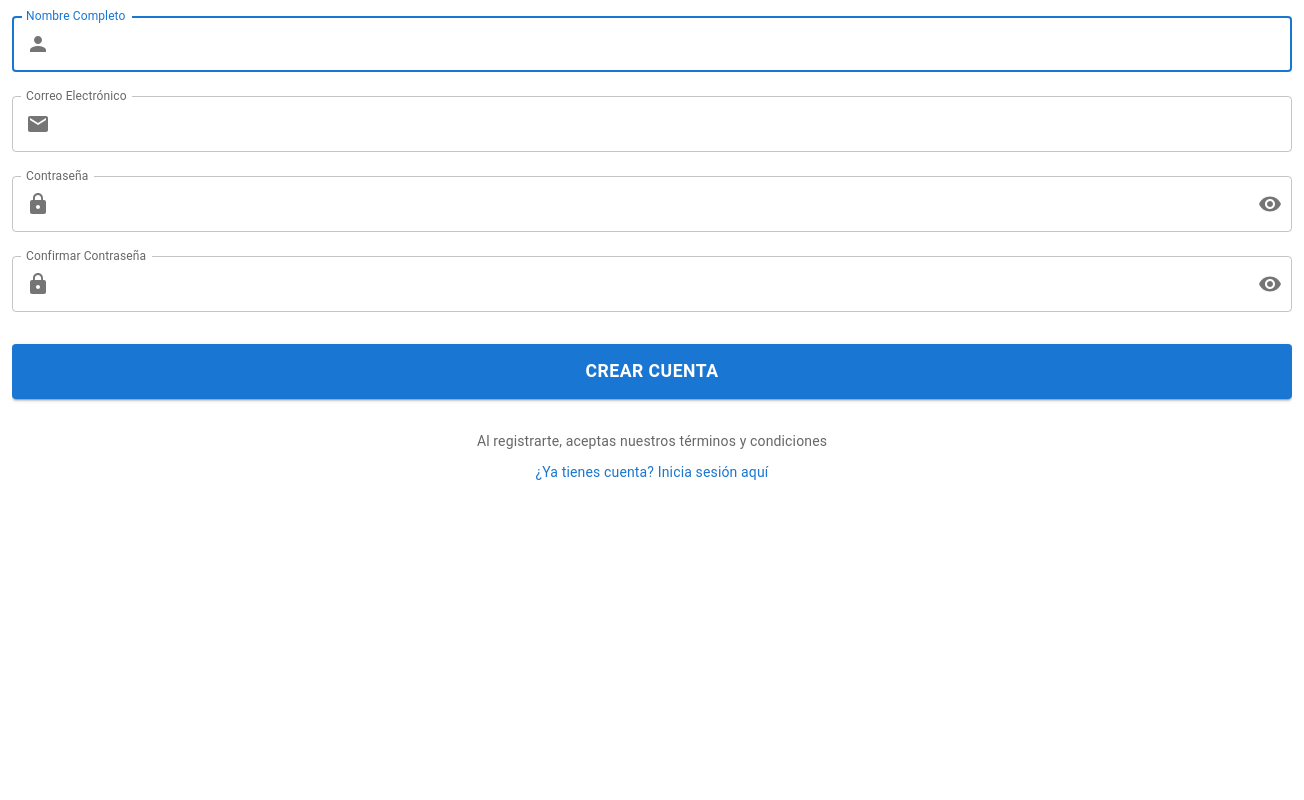
Test: RegisterForm › Form Validation › shows validation error for short name
Type "A" into the field labelled "Nombre Completo". click: (675, 44)
box: [58,16,1292,72]
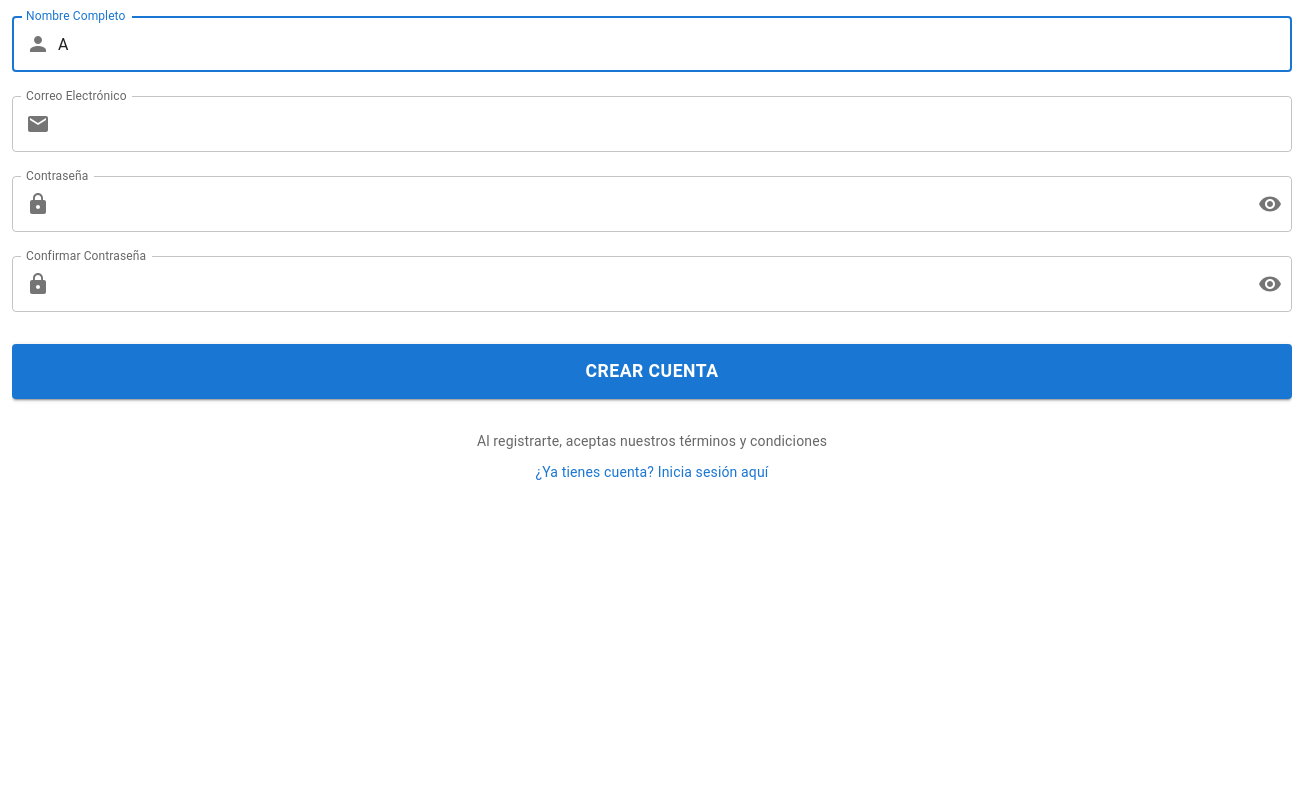
Click the button "Crear Cuenta". click: (652, 371)
box: [12,344,1292,399]
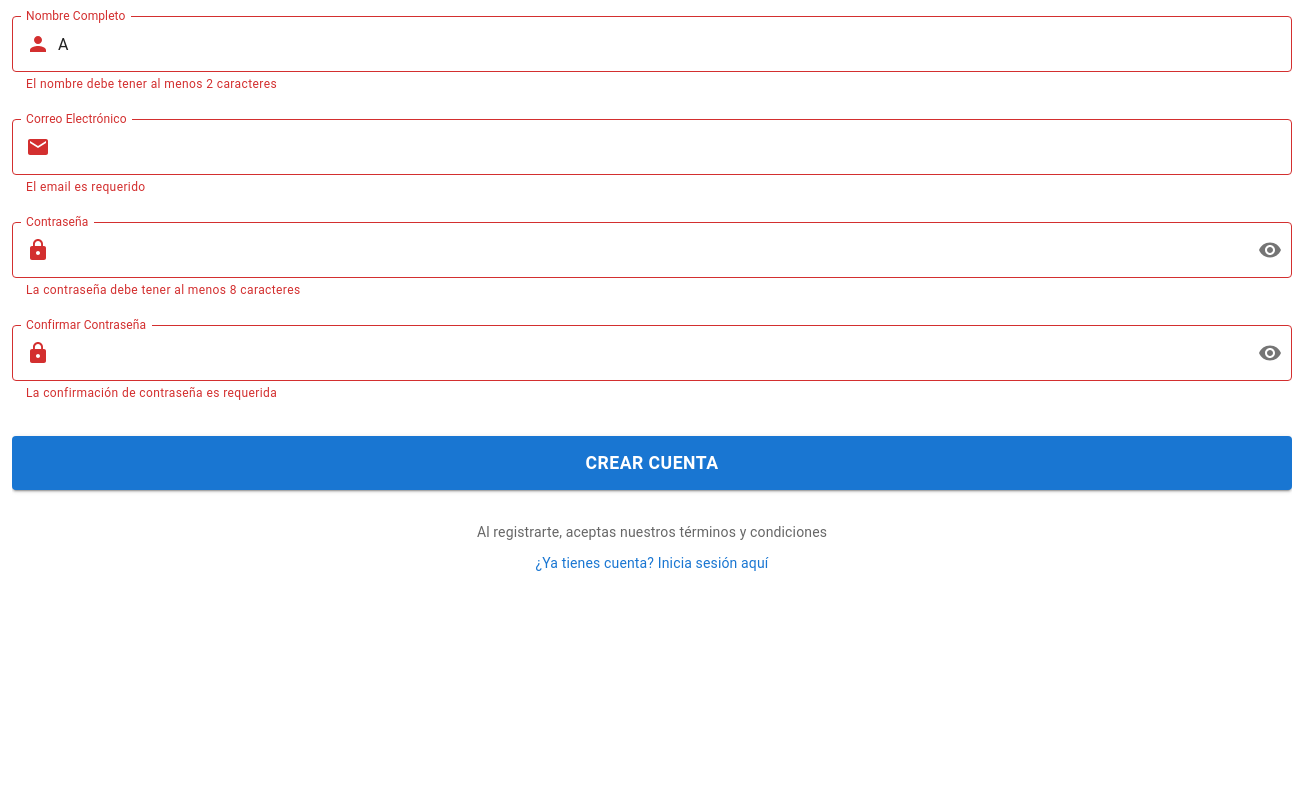
Now the text "El nombre debe tener al menos 2 caracteres" is shown, box [26,77,277,91]
